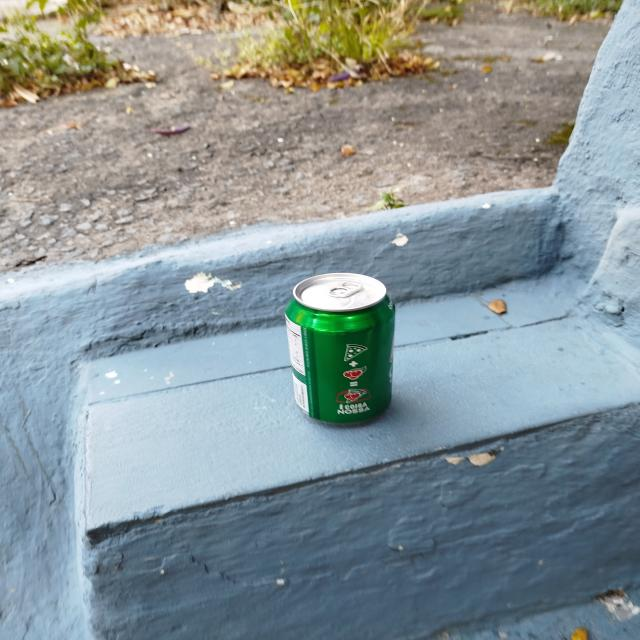Guarana: (286, 272, 396, 424)
